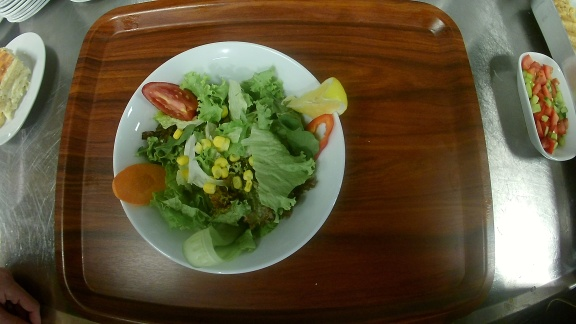salata: (112, 40, 350, 275)
